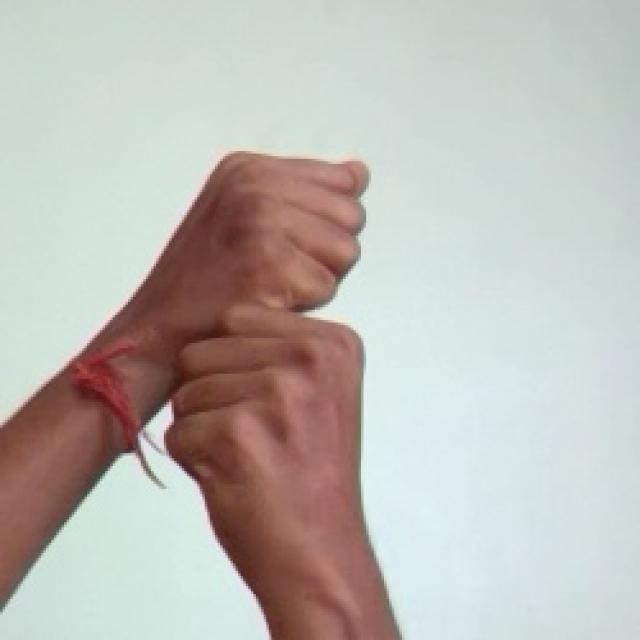Alphabet-g: (140, 110, 380, 612)
